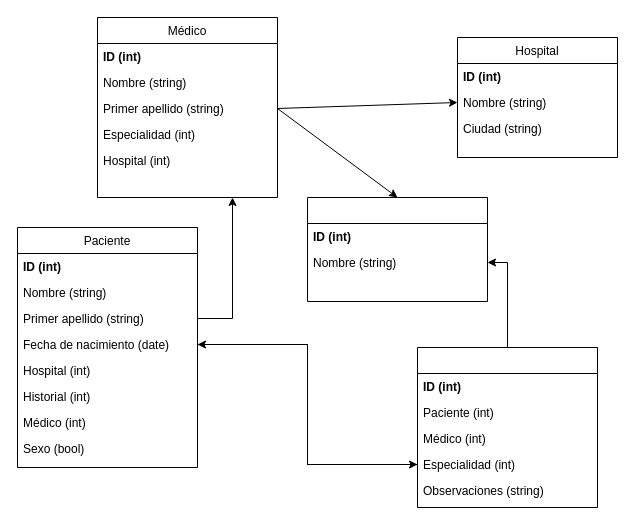
This 635x525 diagram has some shape labels left out. Each missing label, with the box of its shape:
Especialidad: (306, 196, 488, 302)
Historial: (416, 346, 598, 508)
